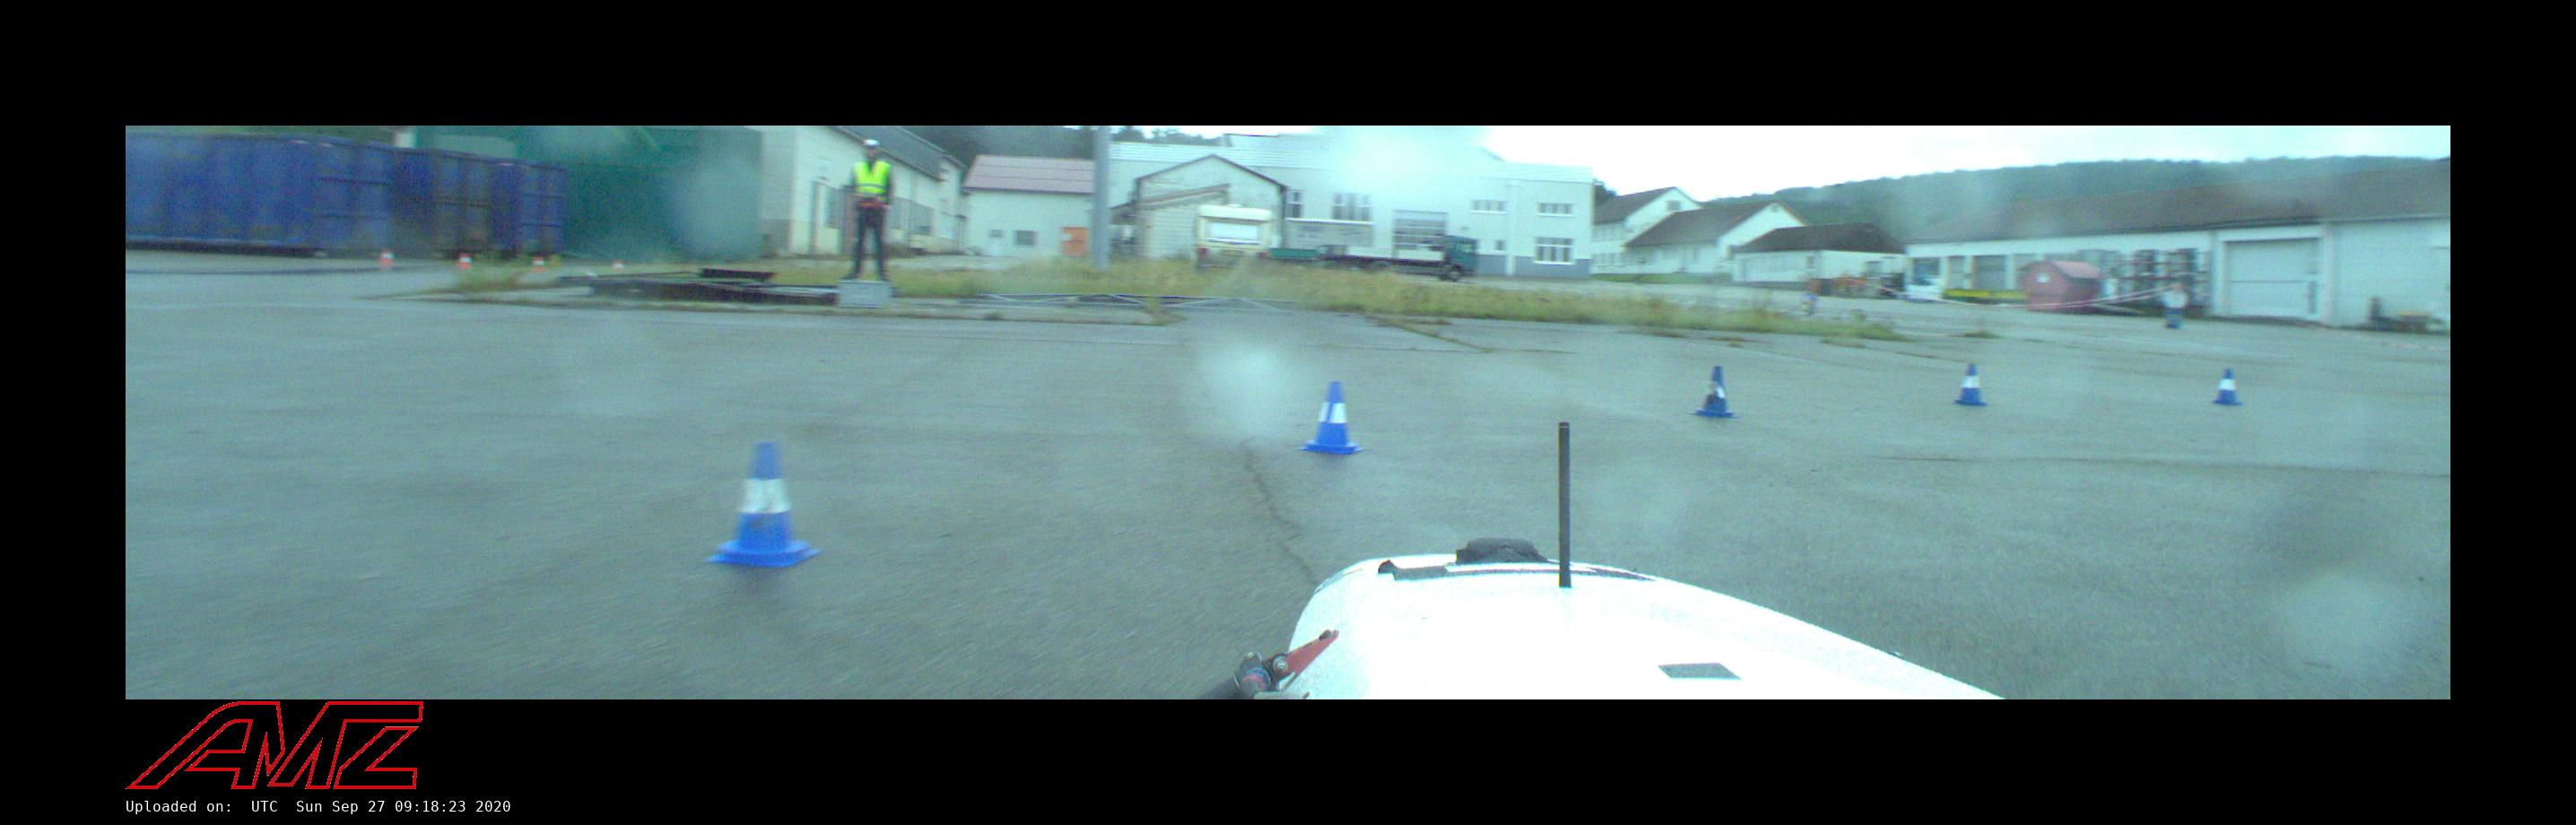blue_cone: (703, 441, 819, 568), (1297, 381, 1364, 456), (1691, 366, 1738, 419), (1953, 362, 1988, 406), (2212, 369, 2242, 405)
orange_cone: (379, 250, 394, 264), (458, 254, 472, 268), (533, 256, 546, 271)
